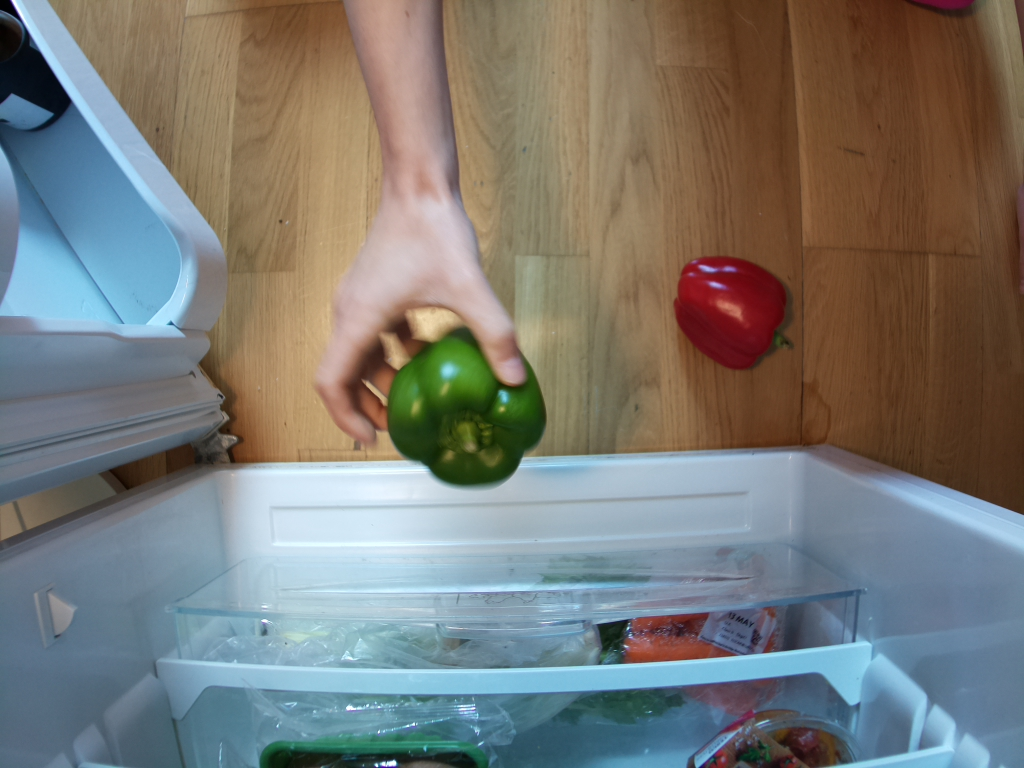pepper: (389, 329, 548, 485), (672, 260, 800, 369)
